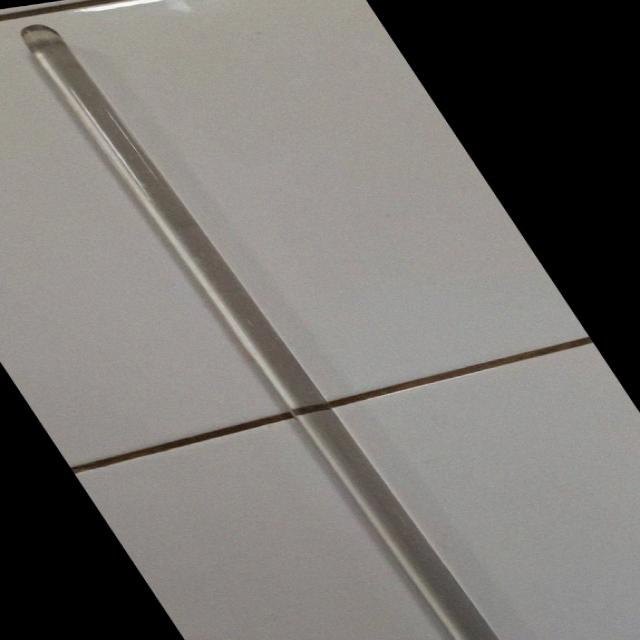Stirrer: (4, 13, 546, 640)
